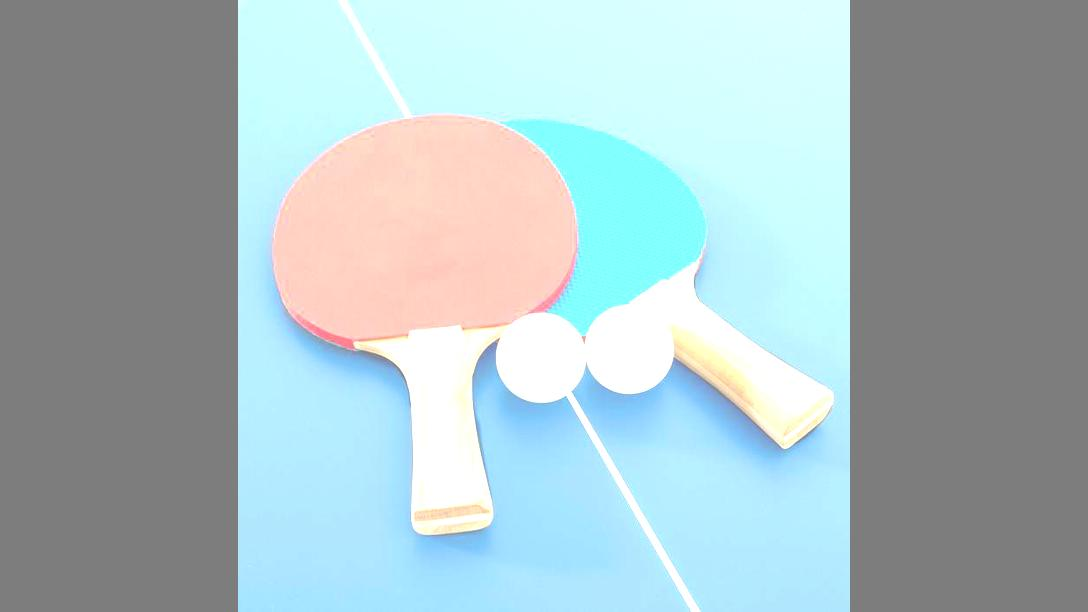Table-Tennis-Ball: (496, 313, 584, 401), (587, 305, 673, 393)
